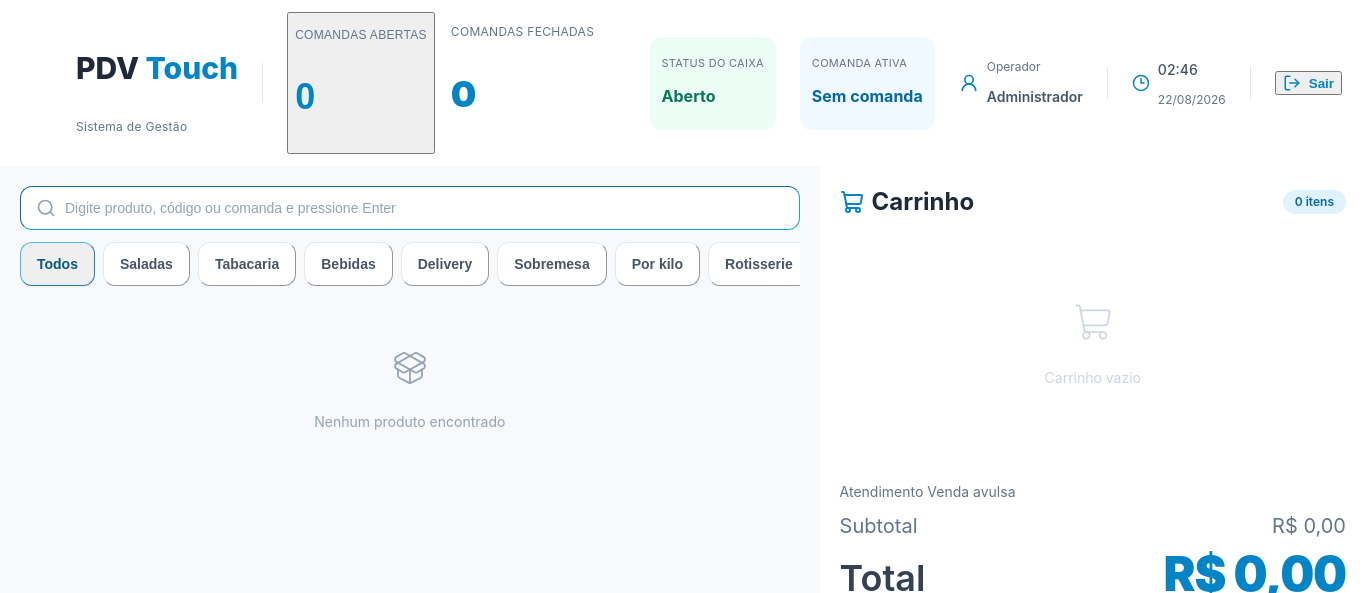
Test case: Carregamento da comanda no caixa › bloqueia reabertura de comanda cancelada localmente mesmo se o backend ainda devolver itens
Type "1" into the field with placeholder "Digite produto, código ou comanda e pressione Enter". click: (410, 208)
box: [20,186,800,230]
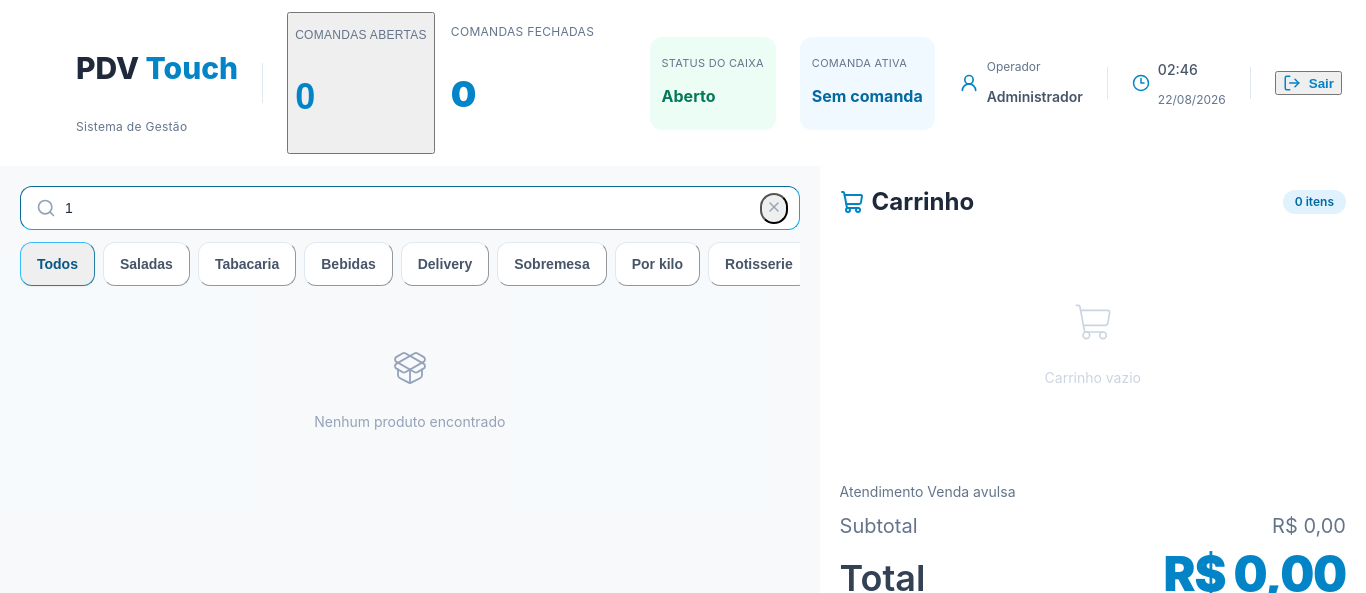
Press Enter in the field with placeholder "Digite produto, código ou comanda e pressione Enter", box [20,186,800,230]
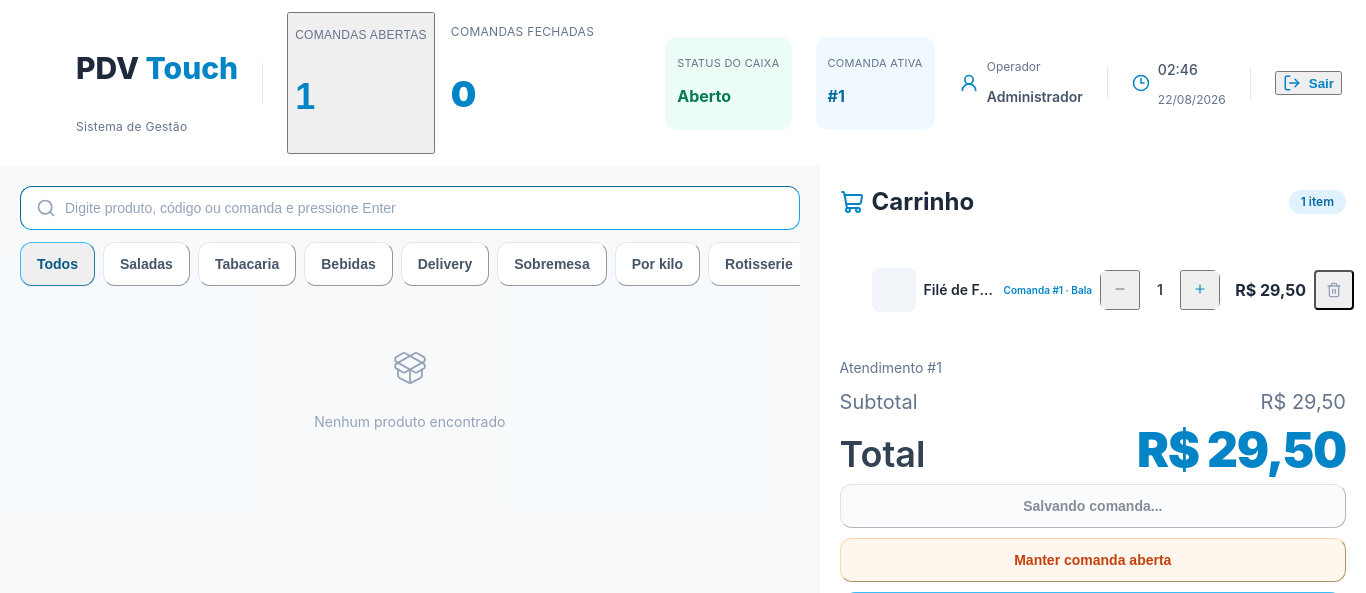
Expected: the text "Filé de Frango" is shown, [924,280,996,300]
Press F8
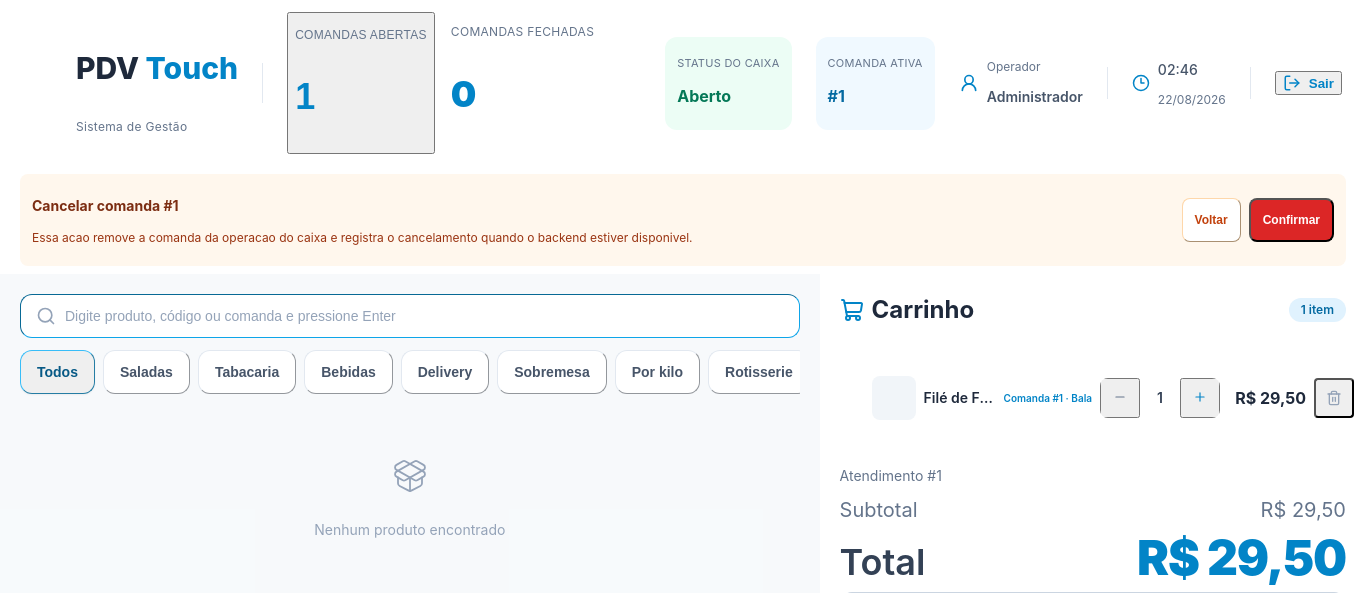
Click the button "Confirmar". click: (1291, 220)
box: [1249,198,1334,242]
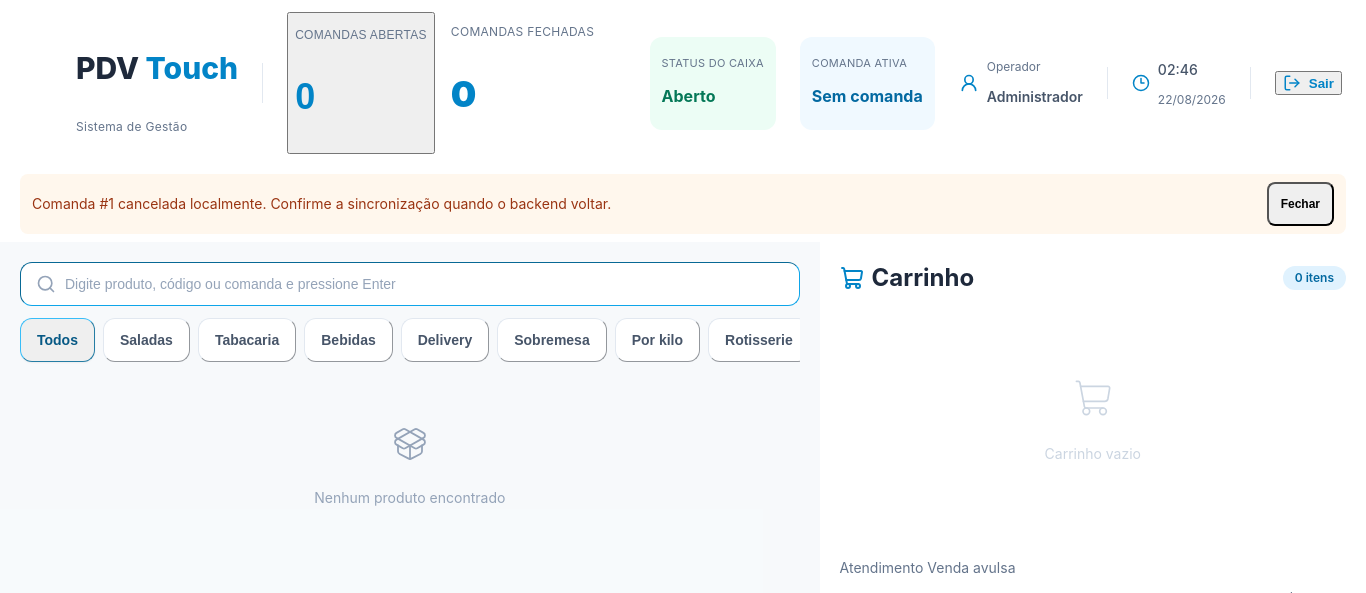
Expected: the text "Comanda #1 cancelada localmente. Confirme a sincronização quando o backend voltar." is shown, [32,195,611,212]
Expected: the text "Sem comanda" is shown, [812,86,923,106]
Expected: the text "Filé de Frango" is gone
Type "1" into the field with placeholder "Digite produto, código ou comanda e pressione Enter". click: (410, 284)
box: [20,262,800,306]
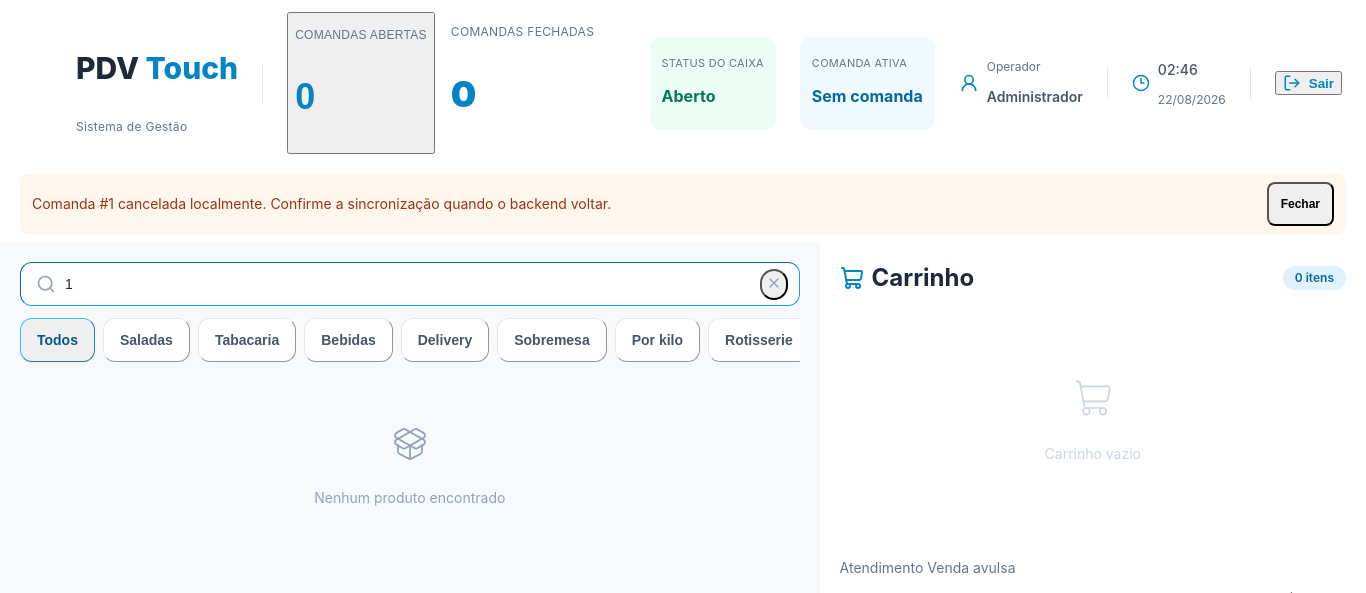
Press Enter in the field with placeholder "Digite produto, código ou comanda e pressione Enter", box [20,262,800,306]
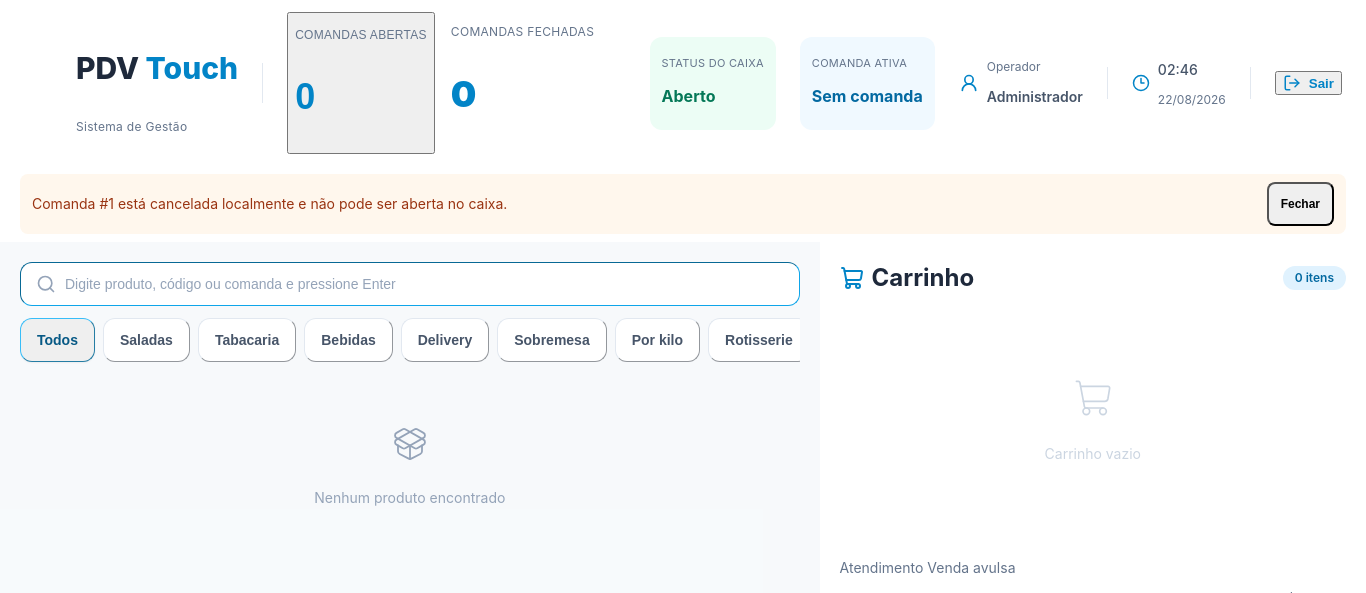
Expected: the text "Filé de Frango" is not shown
Expected: the text "Sem comanda" is shown, [812,86,923,106]
Expected: the text "Comanda #1 está cancelada localmente e não pode ser aberta no caixa." is shown, [32,194,507,214]
